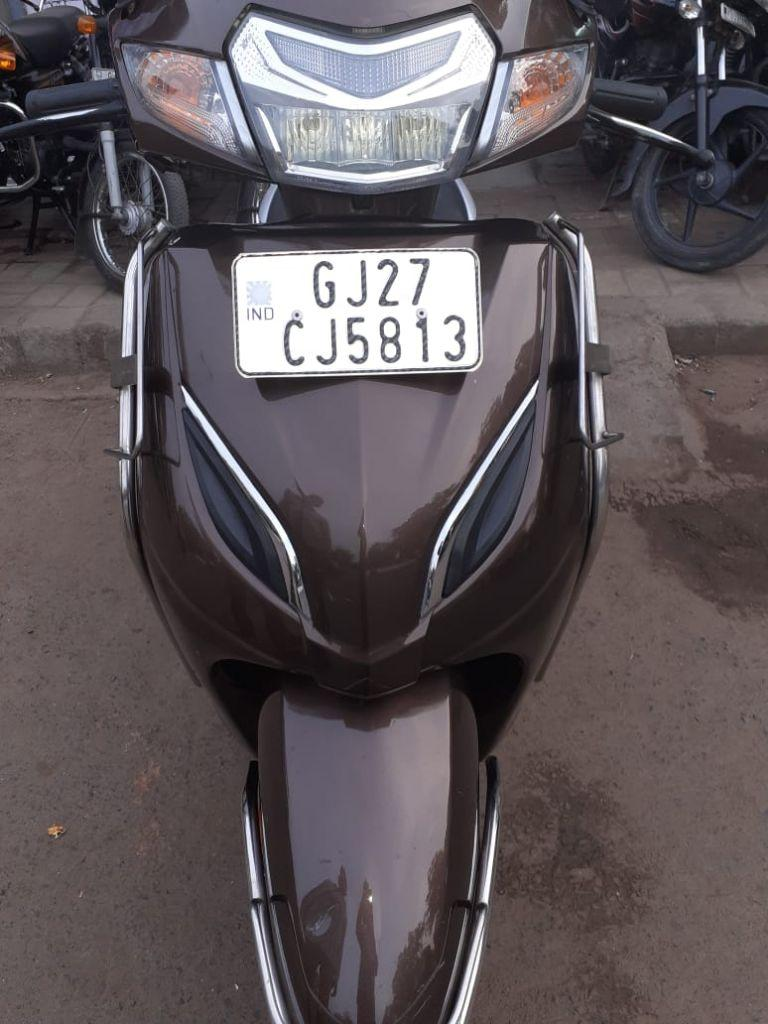doublelinenumberplate: (229, 249, 483, 380)
